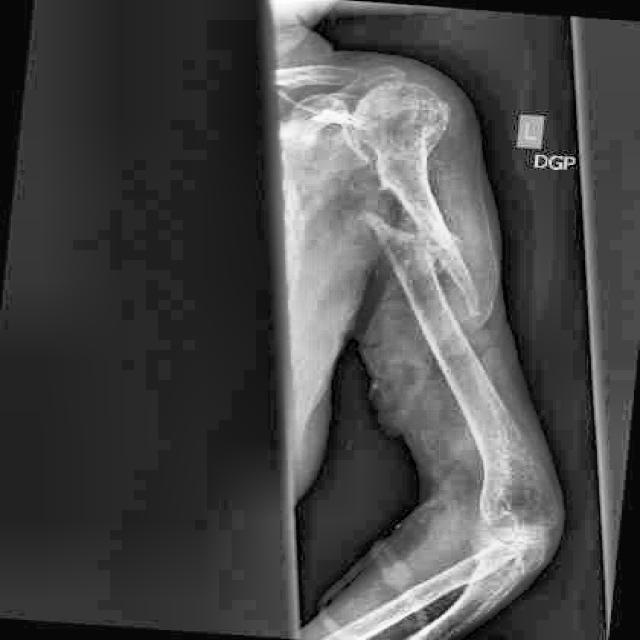humerus: (344, 178, 503, 381)
